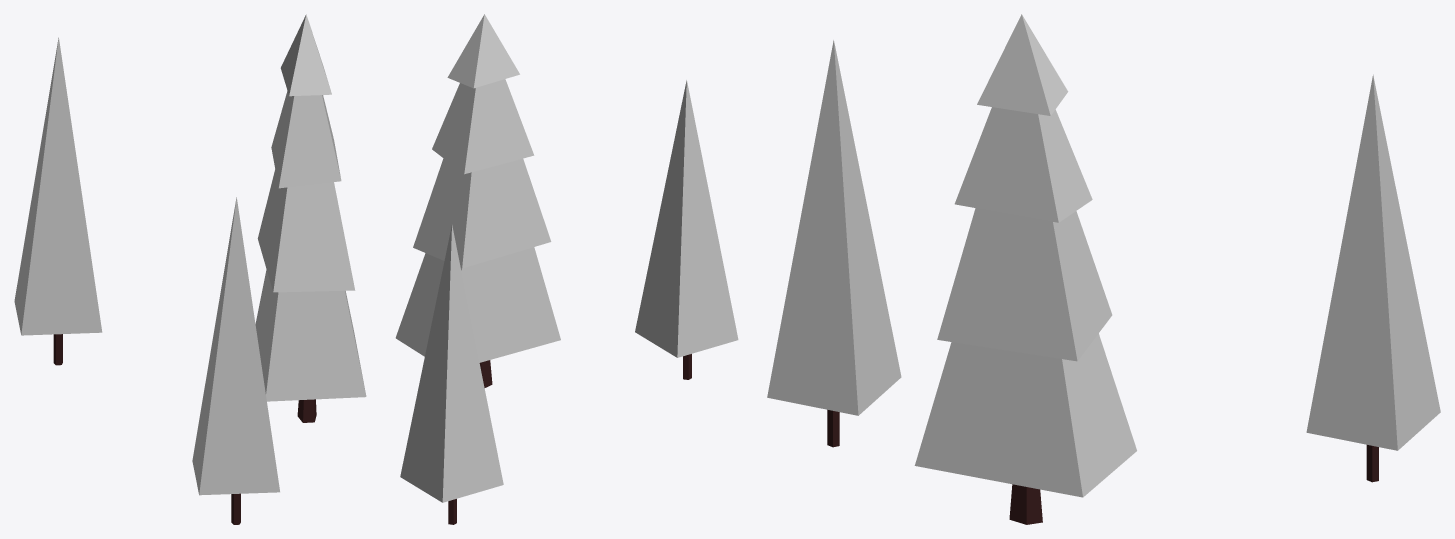
Rendered from Model_Snowtree.fbx.
3 renders of one model, left to right at view 1: azimuth 30°, elevation 25°; view 2: azimuth 150°, elevation 25°; view 3: azimuth 270°, elevation 25°, orthographic. The views are drawn at different scales.
Visible parts, largest first — view 1: Obj3d66-1716343-57-89, Obj3d66-1716343-48-964, Obj3d66-1716343-48-963; view 2: Obj3d66-1716343-57-89, Obj3d66-1716343-48-964, Obj3d66-1716343-48-963; view 3: Obj3d66-1716343-57-89, Obj3d66-1716343-48-963, Obj3d66-1716343-48-964.
Boxes of the visible parts, x1,y1,x2,y2 form: Obj3d66-1716343-57-89: [255, 14, 366, 422]; Obj3d66-1716343-48-964: [192, 197, 279, 524]; Obj3d66-1716343-48-963: [14, 37, 102, 365]; Obj3d66-1716343-57-89: [395, 14, 560, 387]; Obj3d66-1716343-48-964: [635, 80, 738, 379]; Obj3d66-1716343-48-963: [400, 225, 503, 524]; Obj3d66-1716343-57-89: [914, 14, 1136, 524]; Obj3d66-1716343-48-963: [1306, 74, 1440, 482]; Obj3d66-1716343-48-964: [767, 40, 901, 447].
Size of the model in its own units: 489 by 753 by 868.
